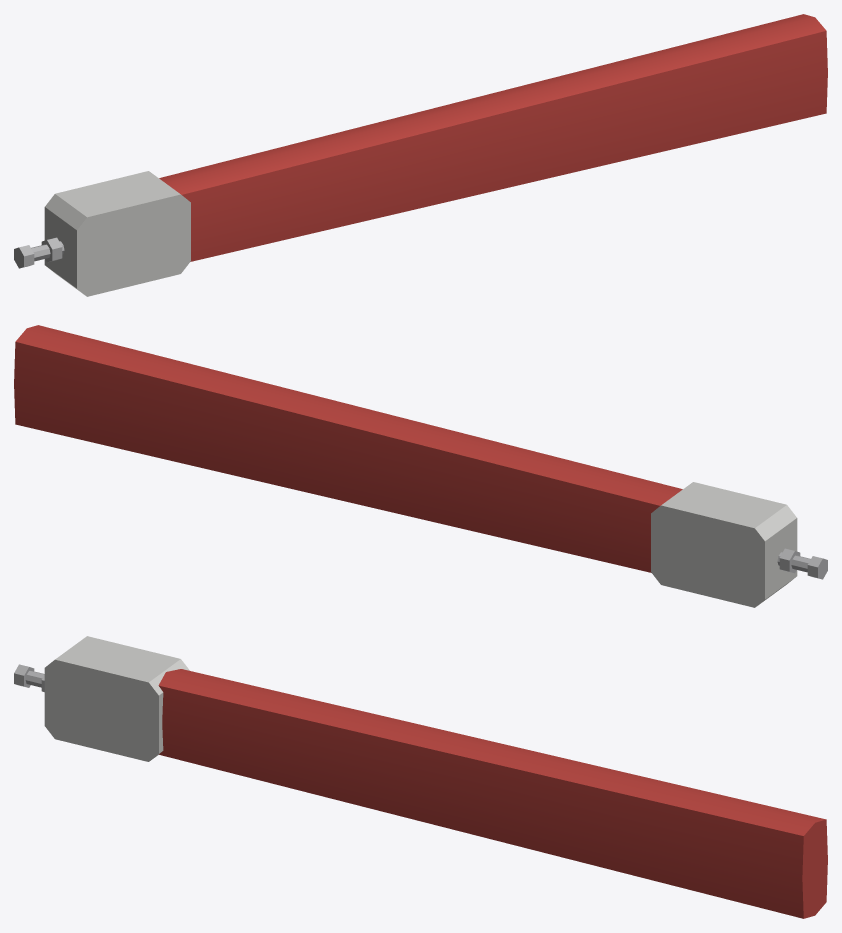
Rendered from box_arm_lod1.glb.
The picture shows the model from 3 angles, top to bottom: view 1: azimuth 30°, elevation 25°; view 2: azimuth 150°, elevation 25°; view 3: azimuth 330°, elevation 25°; orthographic projection.
Visible parts, largest first — view 1: box_arm_lod1; view 2: box_arm_lod1; view 3: box_arm_lod1.
Part boxes in pixels (x1,y1,x2,y2): box_arm_lod1: (14,14,827,296); box_arm_lod1: (14,325,827,607); box_arm_lod1: (14,636,827,918).
Size of the model in its own units: 0.628 by 0.07 by 0.044.
